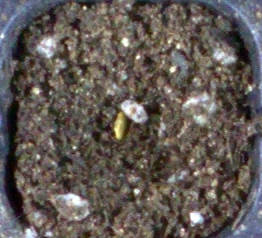chilli seed: (114, 111, 123, 140)
